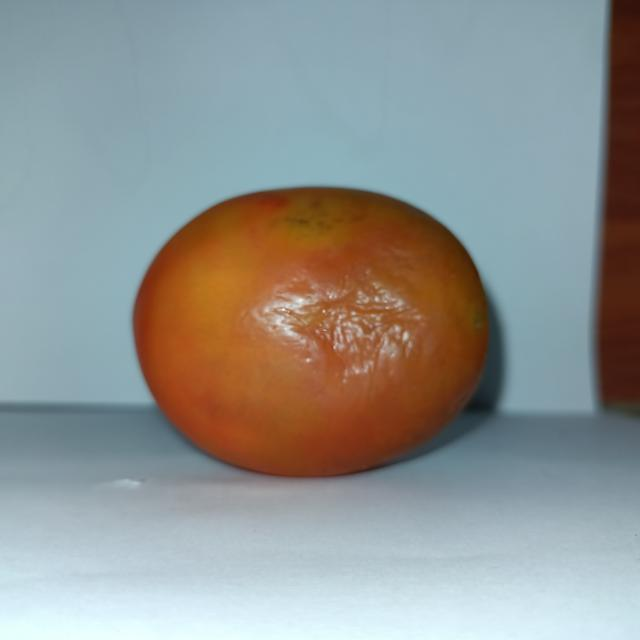Red: (130, 183, 491, 478)
